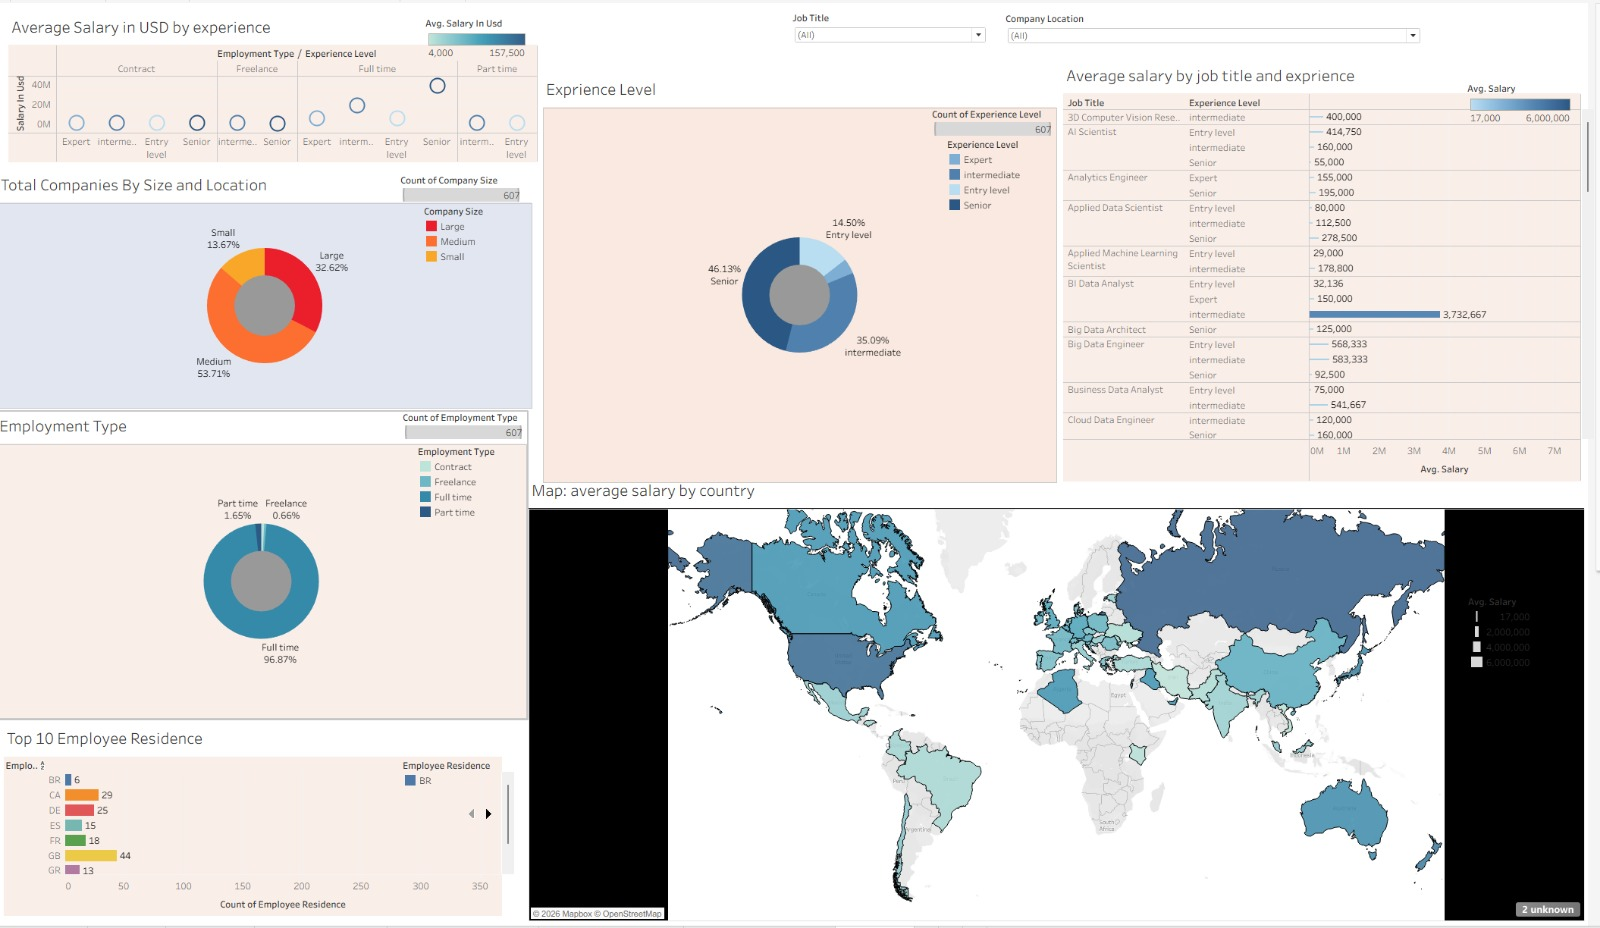

The dashboard page shown, as its layout file describes it:
{"tool":"tableau","page":{"name":"Dashboard 1","canvas":[1000,1000],"units":"permille","ordinal":0},"visuals":[{"type":"filter","title":"Map: average salary by country","param":"[federated.1bakk8k1uvn6f213q4wva14hyczd].[none:job_title:nk]","box":[500.5,9,122.9,36.1]},{"type":"filter","title":"Exprience Level","param":"[federated.1bakk8k1uvn6f213q4wva14hyczd].[none:company_location:nk]","box":[634.3,9.9,261.9,40.3]},{"type":"worksheet","title":"Average Salary in USD by experience","mark":"Shape","rows":["salary_in_usd"],"cols":["employment_type","experience_level"],"box":[8.1,10.7,332.9,161.9]},{"type":"legend","title":"Map: average salary by country","param":"[federated.1bakk8k1uvn6f213q4wva14hyczd].[avg:salary_in_usd:qk]","box":[270,14.8,64.8,47.7]},{"type":"worksheet","title":"Average salary by job title and exprience","mark":"Automatic","rows":["job_title","experience_level"],"cols":["salary"],"box":[670.5,63.3,333.3,455.2]},{"type":"worksheet","title":"Exprience Level","mark":"Pie","rows":["Calculation_1316139542822916","Calculation_1316139542822916"],"box":[343.8,78.1,322.9,442.1]},{"type":"legend","title":"Average salary by job title and exprience","param":"[federated.1bakk8k1uvn6f213q4wva14hyczd].[avg:salary:qk]","box":[924.3,85.5,66.7,62.5]},{"type":"legend","title":"Exprience Level","param":"[federated.1bakk8k1uvn6f213q4wva14hyczd].[cnt:experience_level:qk]","box":[588.1,113.4,77.1,31.2]},{"type":"legend","title":"Average Salary in USD by experience","param":"[federated.1bakk8k1uvn6f213q4wva14hyczd].[none:experience_level:nk]","box":[597.6,146.3,66.7,80.5]},{"type":"worksheet","title":"Total Companies By Size and Location","mark":"Pie","rows":["Calculation_1316139542822916","Calculation_1316139542822916"],"box":[1.4,181.6,335.7,258]},{"type":"legend","title":"Total Companies By Size and Location","param":"[federated.1bakk8k1uvn6f213q4wva14hyczd].[cnt:company_size:qk]","box":[254.3,184.9,77.1,31.2]},{"type":"legend","title":"Total Companies By Size and Location","param":"[federated.1bakk8k1uvn6f213q4wva14hyczd].[none:company_size:nk]","box":[269.1,218.6,66.7,64.1]},{"type":"legend","title":"Employment Type","param":"[federated.1bakk8k1uvn6f213q4wva14hyczd].[cnt:employment_type:qk]","box":[255.7,442.1,77.1,31.2]},{"type":"worksheet","title":"Employment Type","mark":"Pie","rows":["Calculation_1316139542822916","Calculation_1316139542822916"],"box":[0.5,442.9,333.3,332.8]},{"type":"legend","title":"Employment Type","param":"[federated.1bakk8k1uvn6f213q4wva14hyczd].[none:employment_type:nk]","box":[265.2,479.1,66.7,80.5]},{"type":"worksheet","title":"Map: average salary by country","mark":"Automatic","box":[334.8,512.7,663.3,482.3]},{"type":"legend","title":"Average salary by job title and exprience","param":"[federated.1bakk8k1uvn6f213q4wva14hyczd].[avg:salary:qk]","box":[924.8,641.7,66.7,80.5]},{"type":"worksheet","title":"Top 10 Employee Residence","mark":"Automatic","rows":["employee_residence"],"cols":["employee_residence"],"box":[5.2,781.4,320.5,207.9]},{"type":"legend","title":"Top 10 Employee Residence","param":"[federated.1bakk8k1uvn6f213q4wva14hyczd].[none:employee_residence:nk]","box":[255.7,819.2,60,103.5]}]}

Visuals, with their boxes on the dashboard's canvas, which has no fixed pixel size, in thousandths of its width and height (x1, y1, x2, y2). These are canvas units, not pixel positions in the 1600x928 screenshot, which may show the page scaled, cropped or inside an application window:
"Map: average salary by country" filter: 500:9:623:45
"Exprience Level" filter: 634:10:896:50
"Average Salary in USD by experience" worksheet (Shape marks): 8:11:341:173
"Map: average salary by country" legend: 270:15:335:62
"Average salary by job title and exprience" worksheet: 670:63:1004:518
"Exprience Level" worksheet (Pie marks): 344:78:667:520
"Average salary by job title and exprience" legend: 924:86:991:148
"Exprience Level" legend: 588:113:665:145
"Average Salary in USD by experience" legend: 598:146:664:227
"Total Companies By Size and Location" worksheet (Pie marks): 1:182:337:440
"Total Companies By Size and Location" legend: 254:185:331:216
"Total Companies By Size and Location" legend: 269:219:336:283
"Employment Type" legend: 256:442:333:473
"Employment Type" worksheet (Pie marks): 0:443:334:776
"Employment Type" legend: 265:479:332:560
"Map: average salary by country" worksheet: 335:513:998:995
"Average salary by job title and exprience" legend: 925:642:992:722
"Top 10 Employee Residence" worksheet: 5:781:326:989
"Top 10 Employee Residence" legend: 256:819:316:923
